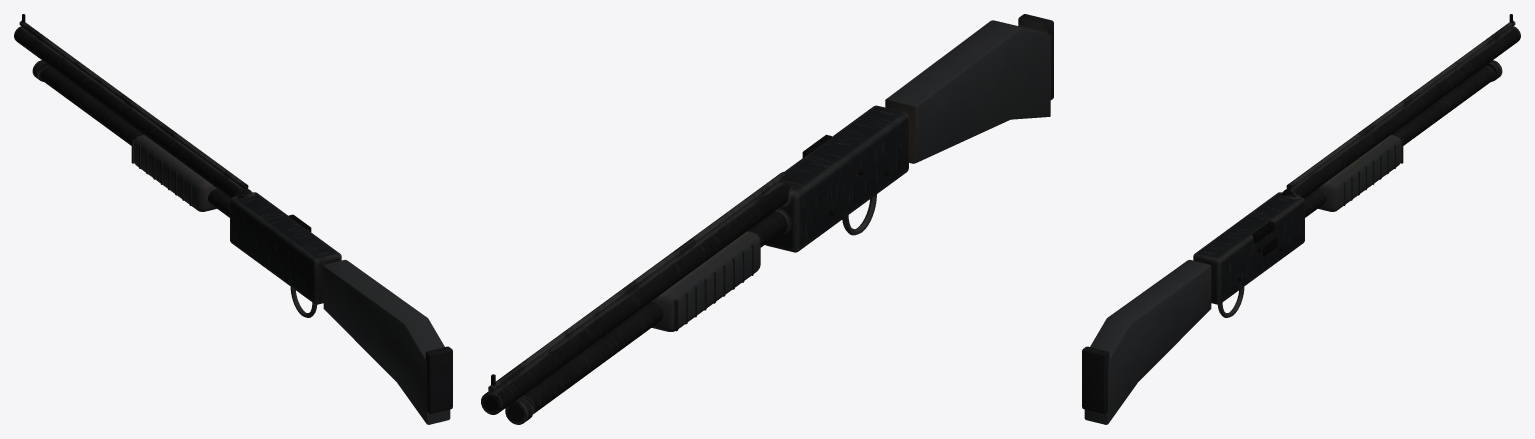
File: nova.glb
The picture shows the model from 3 angles, left to right: view 1: azimuth 30°, elevation 25°; view 2: azimuth 150°, elevation 25°; view 3: azimuth 330°, elevation 25°; orthographic projection. The views are drawn at different scales.
Visible parts, largest first — view 1: body_receiver, body_furniture, pump_furniture, body_metal, pump_metal; view 2: body_receiver, body_furniture, pump_furniture, body_metal, pump_metal; view 3: body_receiver, body_furniture, pump_furniture, body_metal, pump_metal.
Part boxes in pixels (x1,y1,x2,y2): body_receiver: (14,20,341,317); body_furniture: (323,260,450,424); pump_furniture: (133,135,217,211); body_metal: (22,14,452,414); pump_metal: (131,139,191,205); body_receiver: (481,105,908,424); body_furniture: (885,20,1050,163); pump_furniture: (651,231,760,331); body_metal: (491,14,1053,386); pump_metal: (673,244,753,331); body_receiver: (1193,20,1520,317); body_furniture: (1084,260,1211,424); pump_furniture: (1317,135,1401,211); body_metal: (1082,14,1512,414); pump_metal: (1343,139,1403,205).
Bounding box in the file's own units: 0.0532 × 0.1586 × 1.16.
Materials: 5 (5 with a texture image).
